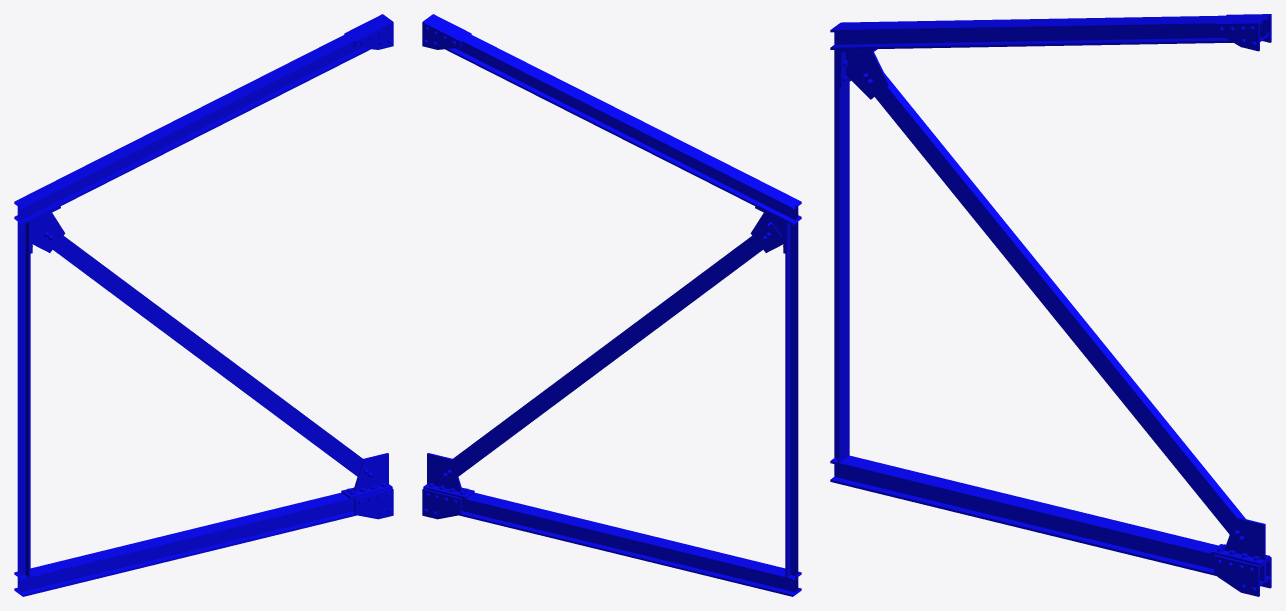
The model's file is Structure02_Roof05.fbx.
3 views of the same model, side by side, from view 1: azimuth 30°, elevation 25°; view 2: azimuth 150°, elevation 25°; view 3: azimuth 330°, elevation 25° (orthographic). The views are drawn at different scales.
Visible parts, largest first — view 1: Structure02_Roof05_LOD0; view 2: Structure02_Roof05_LOD0; view 3: Structure02_Roof05_LOD0.
Part boxes in pixels (x1,y1,x2,y2): Structure02_Roof05_LOD0: [14, 14, 393, 596]; Structure02_Roof05_LOD0: [422, 14, 801, 596]; Structure02_Roof05_LOD0: [830, 14, 1271, 596].
Size of what is drawn, in the model's own units: 300 by 383 by 19.5.
